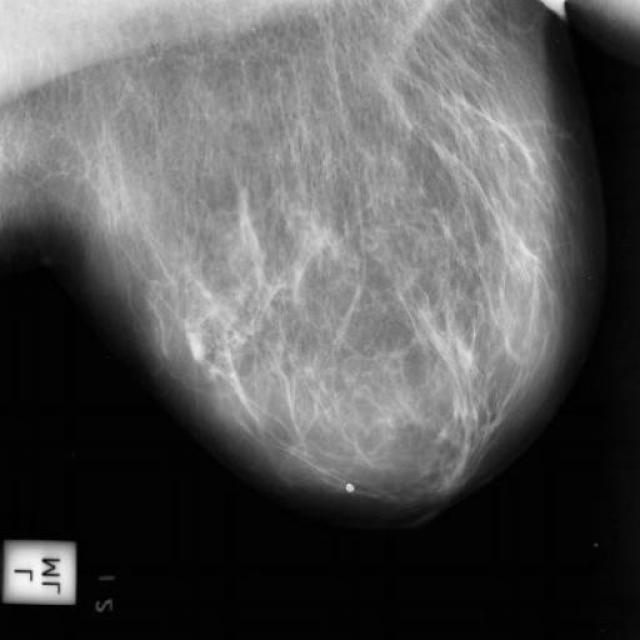cancer: (176, 261, 222, 329)
